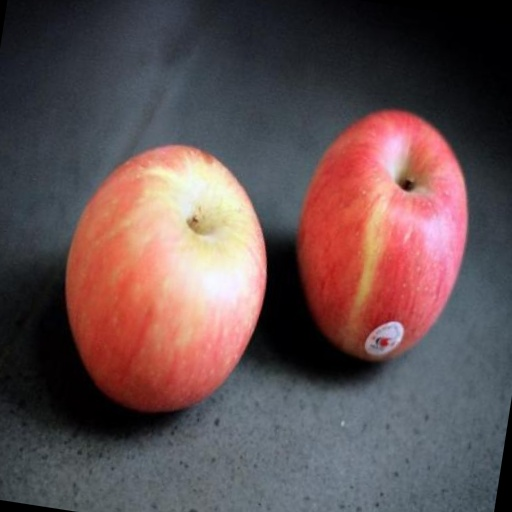fruit: (66, 146, 266, 412), (297, 111, 467, 360)
